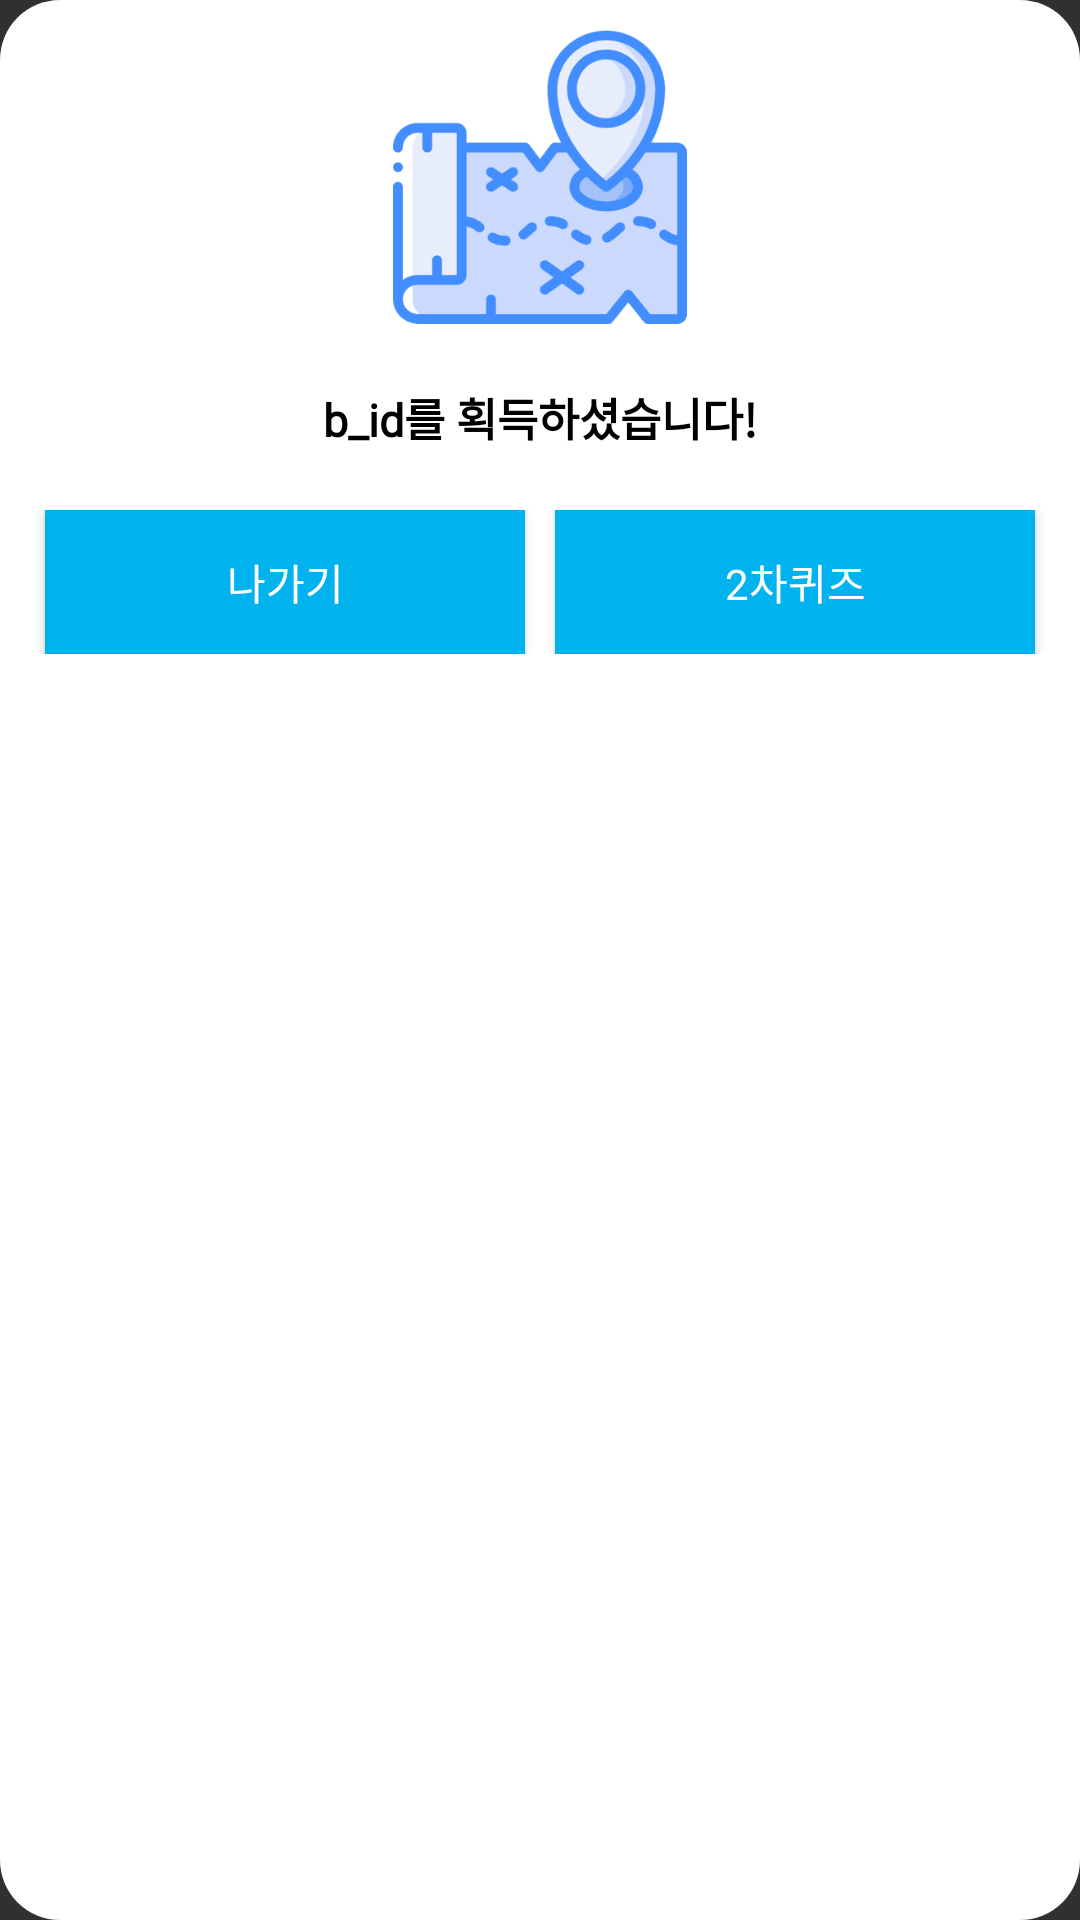

Screen size 1080px×1920px. Icon name, then its center in pixels as (x=x, y=y):
intromap: (x=540, y=177)
